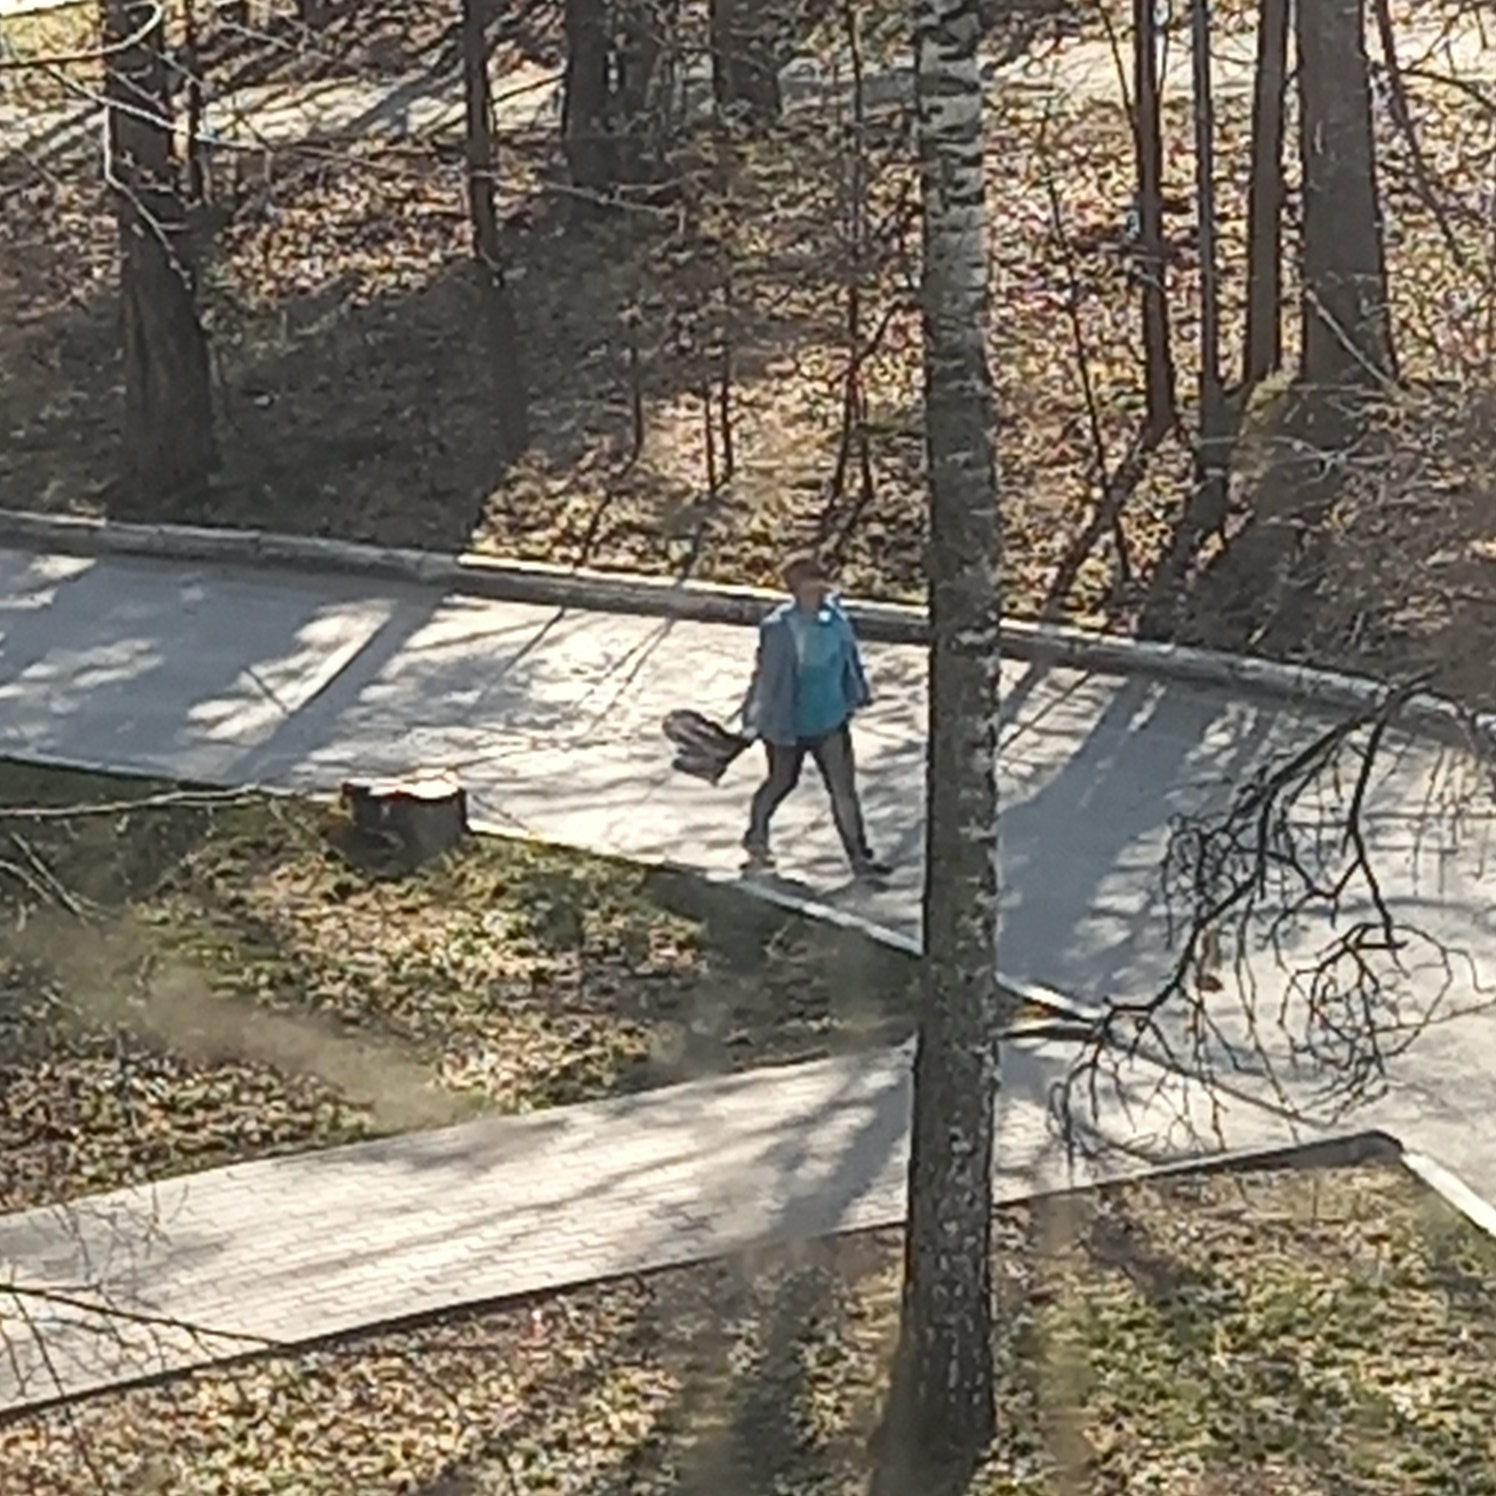person: (739, 552, 896, 884)
